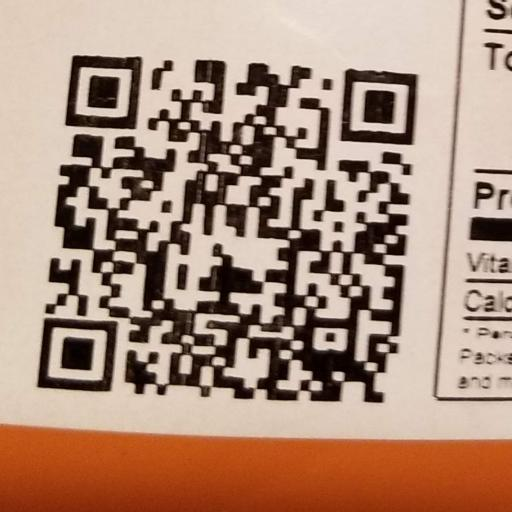QR_CODE: (24, 32, 433, 417)
